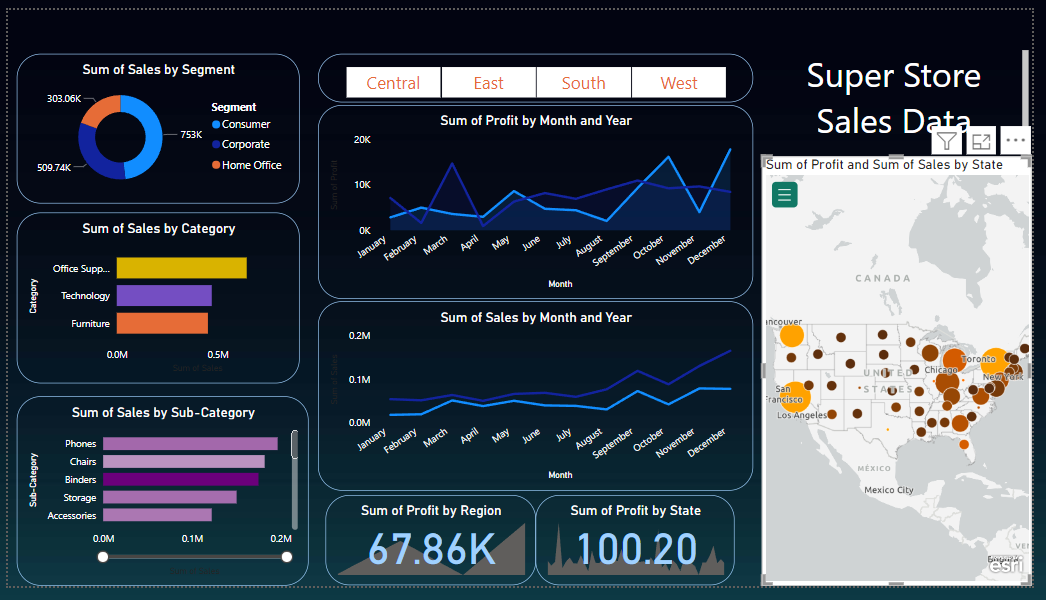

This screenshot's page, from the dashboard's own definition file:
{"tool":"powerbi","page":{"name":"Page 1","canvas":[1280,720],"ordinal":0},"visuals":[{"type":"barChart","fields":{"Category":["SuperStore_Sales_Dataset.Category"],"Y":["Sum(SuperStore_Sales_Dataset.Sales)"]},"box":[11,253.2,353.7,213.3],"z":0},{"type":"barChart","fields":{"Category":["SuperStore_Sales_Dataset.Sub-Category","SuperStore_Sales_Dataset.Category"],"Y":["Sum(SuperStore_Sales_Dataset.Sales)"]},"box":[11,483.1,364.7,236.7],"z":1000},{"type":"areaChart","fields":{"Y":["Sum(SuperStore_Sales_Dataset.Sales)"],"Category":["SuperStore_Sales_Dataset.Order Date.Variation.Date Hierarchy.Month","SuperStore_Sales_Dataset.Order Date.Variation.Date Hierarchy.Day"],"Series":["SuperStore_Sales_Dataset.Order Date.Variation.Date Hierarchy.Year"]},"box":[386.8,364.7,543.7,236.7],"z":2000},{"type":"areaChart","fields":{"Category":["SuperStore_Sales_Dataset.Order Date.Variation.Date Hierarchy.Month","SuperStore_Sales_Dataset.Order Date.Variation.Date Hierarchy.Day"],"Series":["SuperStore_Sales_Dataset.Order Date.Variation.Date Hierarchy.Year"],"Y":["Sum(SuperStore_Sales_Dataset.Profit)"]},"box":[386.8,118.4,543.7,242.2],"z":3000},{"type":"donutChart","fields":{"Category":["SuperStore_Sales_Dataset.Segment"],"Y":["Sum(SuperStore_Sales_Dataset.Sales)"]},"box":[11,55.1,353.7,187.2],"z":4000},{"type":"slicer","fields":{"Values":["SuperStore_Sales_Dataset.Region"]},"box":[386.8,55.1,543.7,60.6],"z":5000},{"type":"kpi","fields":{"TrendLine":["SuperStore_Sales_Dataset.Region"],"Indicator":["Sum(SuperStore_Sales_Dataset.Profit)"]},"box":[396.4,607,262.9,112.9],"z":6000},{"type":"kpi","fields":{"Indicator":["Sum(SuperStore_Sales_Dataset.Profit)"],"TrendLine":["SuperStore_Sales_Dataset.State"]},"box":[659.3,607,249.1,112.9],"z":7000},{"type":"esriVisual","fields":{"Location":["SuperStore_Sales_Dataset.State"],"Size":["Sum(SuperStore_Sales_Dataset.Profit)"],"Color":["Sum(SuperStore_Sales_Dataset.Sales)"]},"box":[941.4,183.1,338.6,536.8],"z":8000},{"type":"textbox","box":[941.4,45.4,338.6,128],"z":9000}]}

Visuals, with their boxes on the page's 1280x720 design canvas (x1, y1, x2, y2). These are canvas units, not pixel positions in the 1046x600 screenshot, which may show the page scaled, cropped or inside an application window:
barChart - SuperStore_Sales_Dataset.Category x Sum(SuperStore_Sales_Dataset.Sales): [11,253,365,466]
barChart - SuperStore_Sales_Dataset.Sub-Category x SuperStore_Sales_Dataset.Category: [11,483,376,720]
areaChart - Sum(SuperStore_Sales_Dataset.Sales) x SuperStore_Sales_Dataset.Order Date.Variation.Date Hierarchy.Month: [387,365,930,601]
areaChart - SuperStore_Sales_Dataset.Order Date.Variation.Date Hierarchy.Month x SuperStore_Sales_Dataset.Order Date.Variation.Date Hierarchy.Day: [387,118,930,361]
donutChart - SuperStore_Sales_Dataset.Segment x Sum(SuperStore_Sales_Dataset.Sales): [11,55,365,242]
slicer - SuperStore_Sales_Dataset.Region: [387,55,930,116]
kpi - SuperStore_Sales_Dataset.Region x Sum(SuperStore_Sales_Dataset.Profit): [396,607,659,720]
kpi - Sum(SuperStore_Sales_Dataset.Profit) x SuperStore_Sales_Dataset.State: [659,607,908,720]
esriVisual - SuperStore_Sales_Dataset.State x Sum(SuperStore_Sales_Dataset.Profit): [941,183,1280,720]
textbox: [941,45,1280,173]
